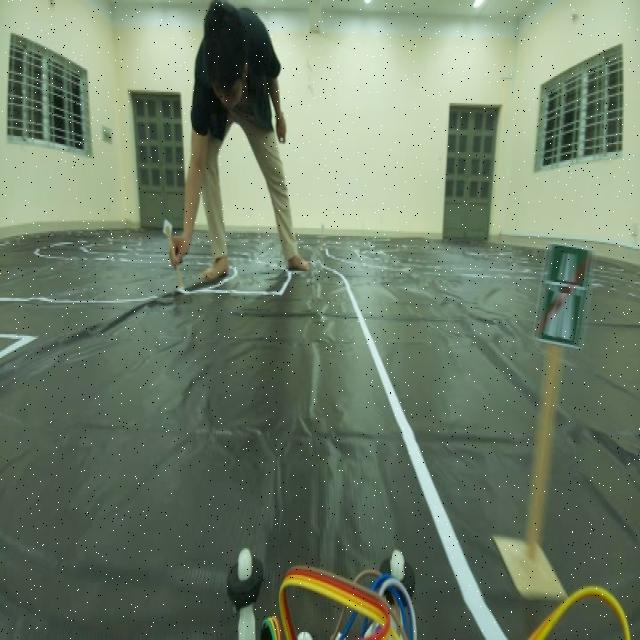highway_exit: (536, 230, 594, 375)
